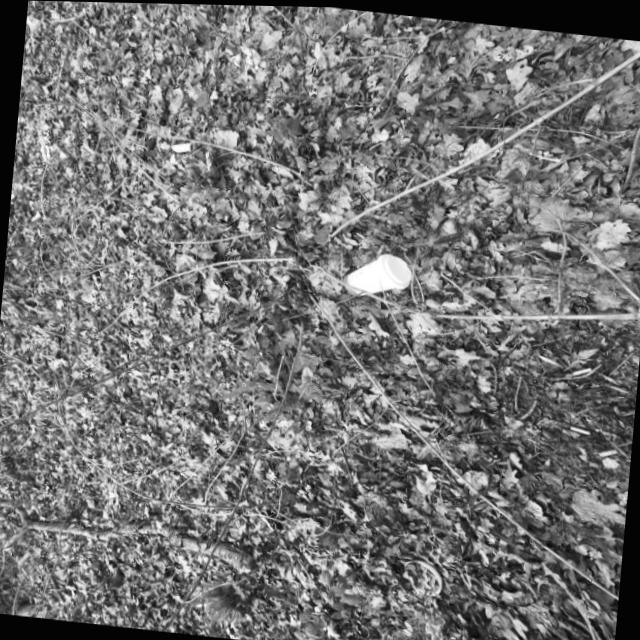Cup: (339, 246, 413, 301)
Plastic: (230, 43, 261, 70), (20, 180, 37, 191)
